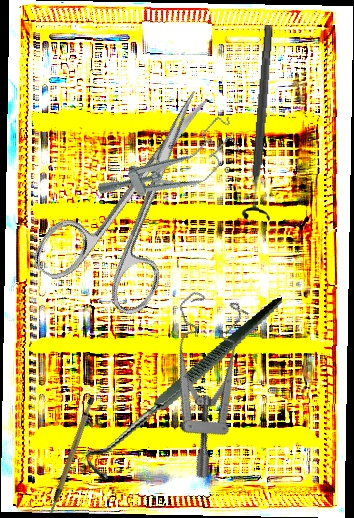Fixation Ring: (239, 23, 285, 222)
Hook Surgical: (61, 297, 313, 483)
Iris Scissors: (27, 64, 257, 329)
Scalpel Handle: (30, 395, 110, 516)
Speculum: (115, 279, 283, 483), (91, 112, 250, 224)
